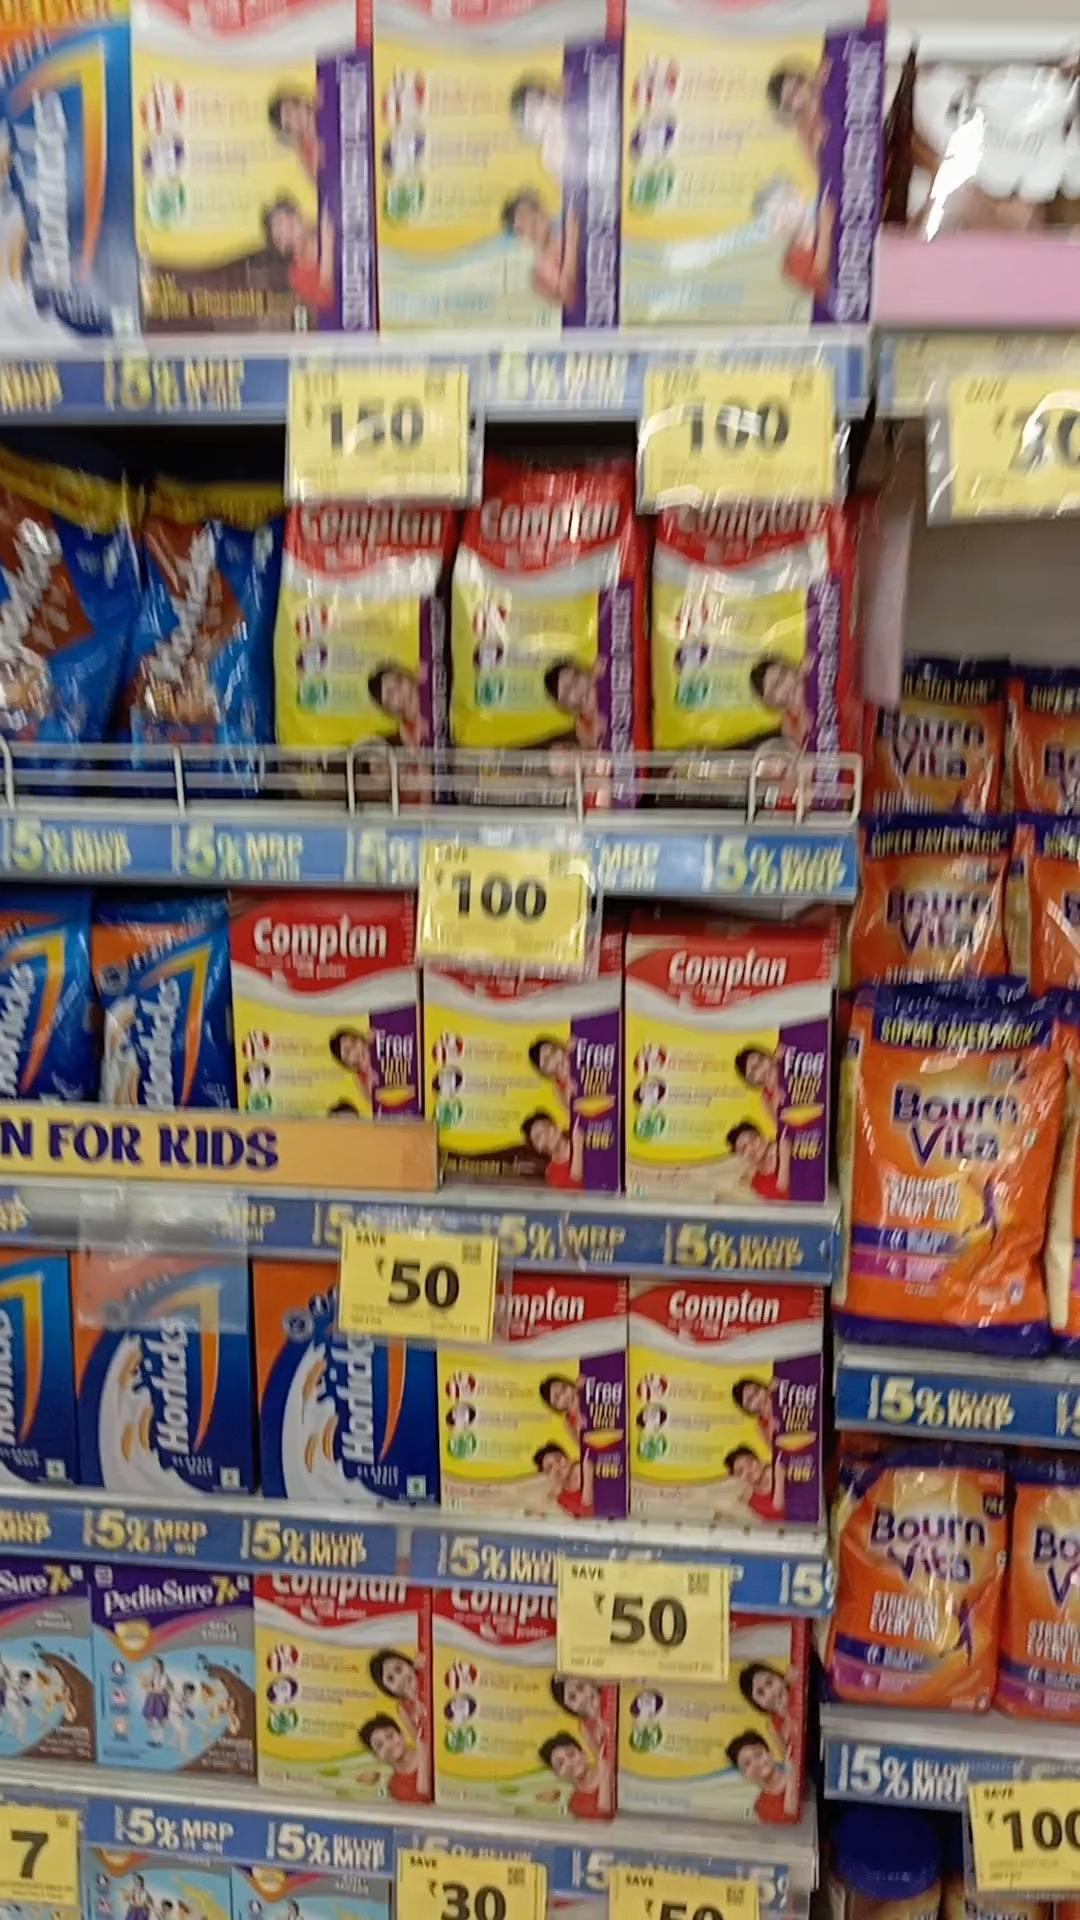BOURN_VITA_1_KG_POUCH: (864, 1001, 1055, 1345), (865, 814, 1014, 990)
BOURN_VITA_750_G_POUCH: (827, 1456, 1007, 1720)
COMPLAN_CHOCOLATE_1_KG_PACK: (133, 1, 373, 338)
COMPLAN_CHOCOLATE_500_GMS_PACK: (425, 938, 618, 1199), (235, 905, 419, 1122)
COMPLAN_KESAR_BADAM_500_GMS_PACK: (632, 1282, 820, 1531), (629, 953, 820, 1197), (444, 1275, 618, 1515), (618, 1667, 802, 1834)
COMPLAN_PISTA_BADAM_500_GMS_PACK: (260, 1571, 433, 1811), (443, 1594, 599, 1833)
COMPLAN_RC_POUCH_700_GMS_12: (440, 456, 628, 800), (651, 500, 844, 814), (265, 505, 429, 802)
HORLICK_CHOCOLATE_750_G_POUCH: (123, 463, 256, 802), (0, 433, 113, 799)
HORLICK_CLASSIC_MALT_500_G_PACK: (76, 1242, 241, 1518), (255, 1250, 430, 1502)
HORLICK_CLASSIC_MALT_750_G_POUCH: (88, 903, 223, 1110)
PEDIASURE_7_PLUS_CHOCOLATE_400_G_PACK: (99, 1557, 256, 1783), (0, 1543, 90, 1766)
